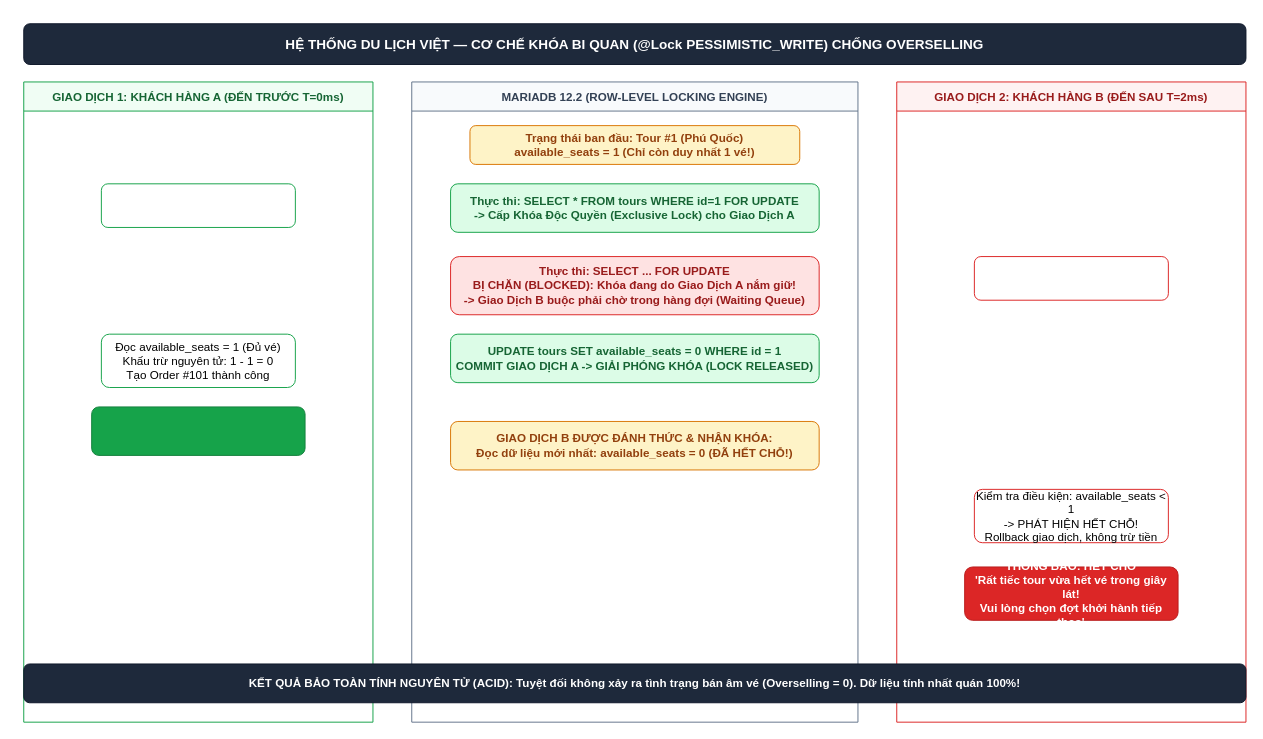
This 1263x739 diagram has some shape labels left out. Here are the shapes that lost their labels. From the top down, the centre of each, then its label:
At [197,205]: "Gửi yêu cầu đặt 1 vé (T=0ms, OrderRequest)".
At [1070,278]: "Cùng gửi yêu cầu đặt 1 vé (T=2ms, cùng Tour #1)".
At [198,430]: "XÁC NHẬN ĐẶT TOUR THÀNH CÔNG Nhận E-Ticket và Mã QR thanh toán".
